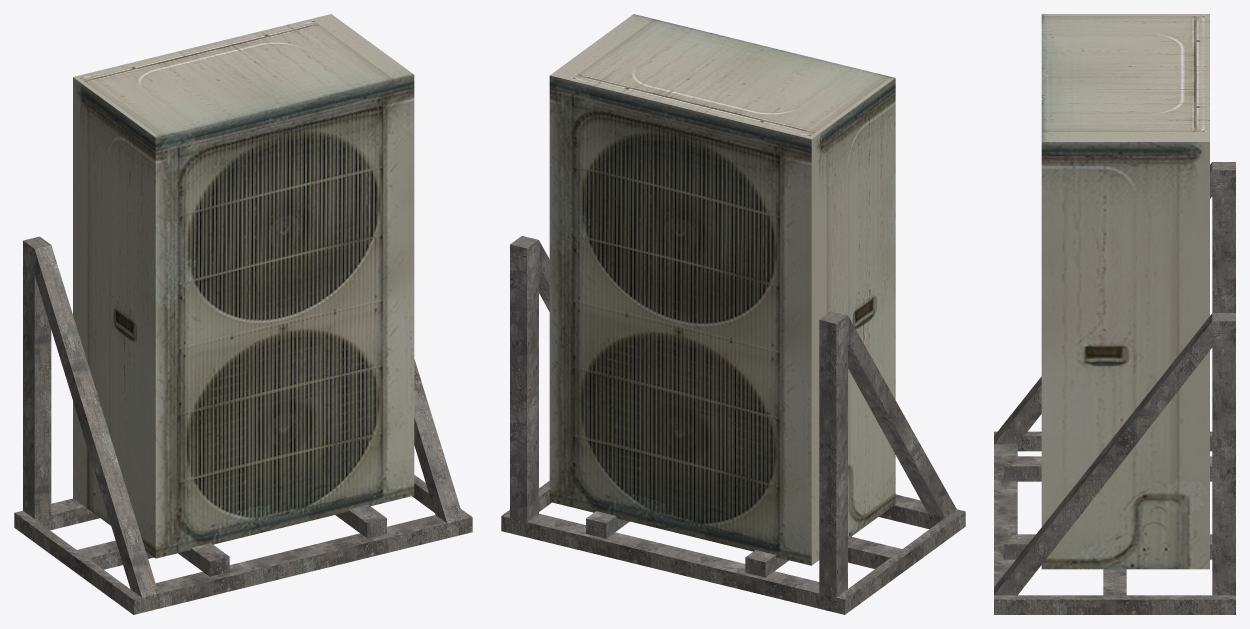
Rendered from CT_aircon_unit_typeC_01.fbx.
3 views of the same model, side by side, from view 1: azimuth 30°, elevation 25°; view 2: azimuth 150°, elevation 25°; view 3: azimuth 270°, elevation 25° (orthographic).
Visible parts, largest first — view 1: CT_aircon_unit_typeC_01; view 2: CT_aircon_unit_typeC_01; view 3: CT_aircon_unit_typeC_01.
Boxes of the visible parts, <box> form: CT_aircon_unit_typeC_01: <box>14,14,472,614</box>; CT_aircon_unit_typeC_01: <box>501,14,965,614</box>; CT_aircon_unit_typeC_01: <box>994,14,1235,614</box>.
Size of the model in its own units: 118 by 149 by 71.83.
